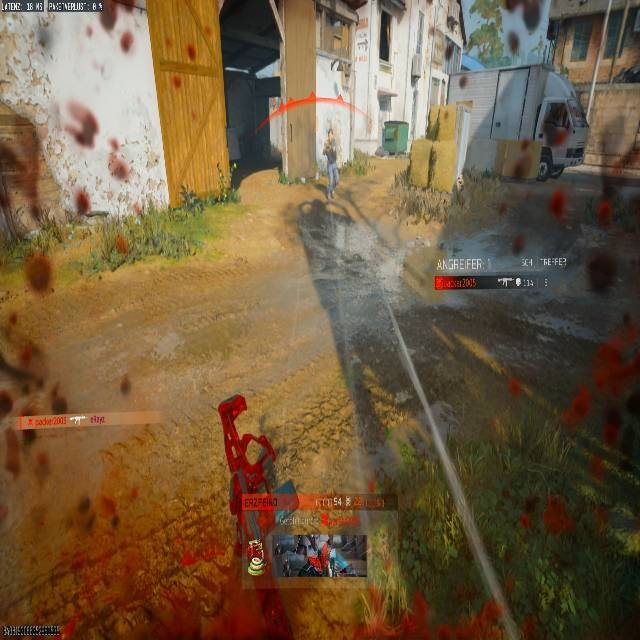head: (327, 129, 333, 138)
player: (322, 129, 339, 199)
